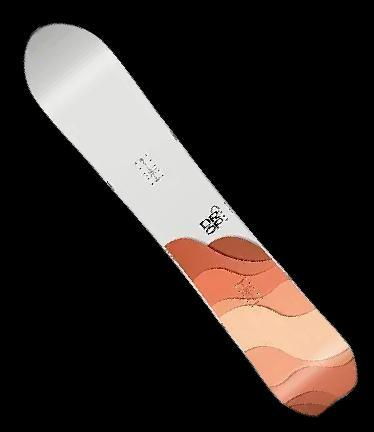Snowboard: (22, 21, 358, 418)
